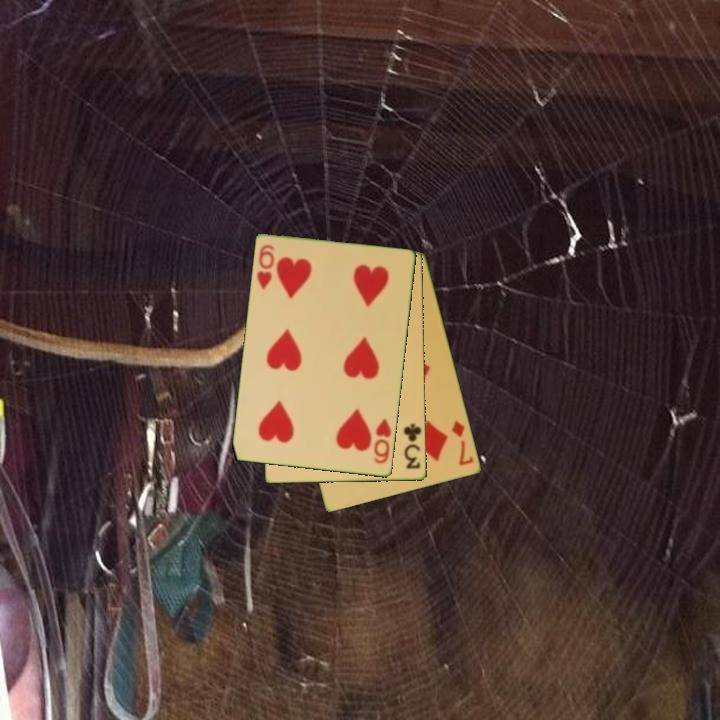3c: (401, 420, 424, 472)
6h: (370, 414, 394, 467), (254, 241, 278, 293)
7d: (448, 417, 477, 469)
